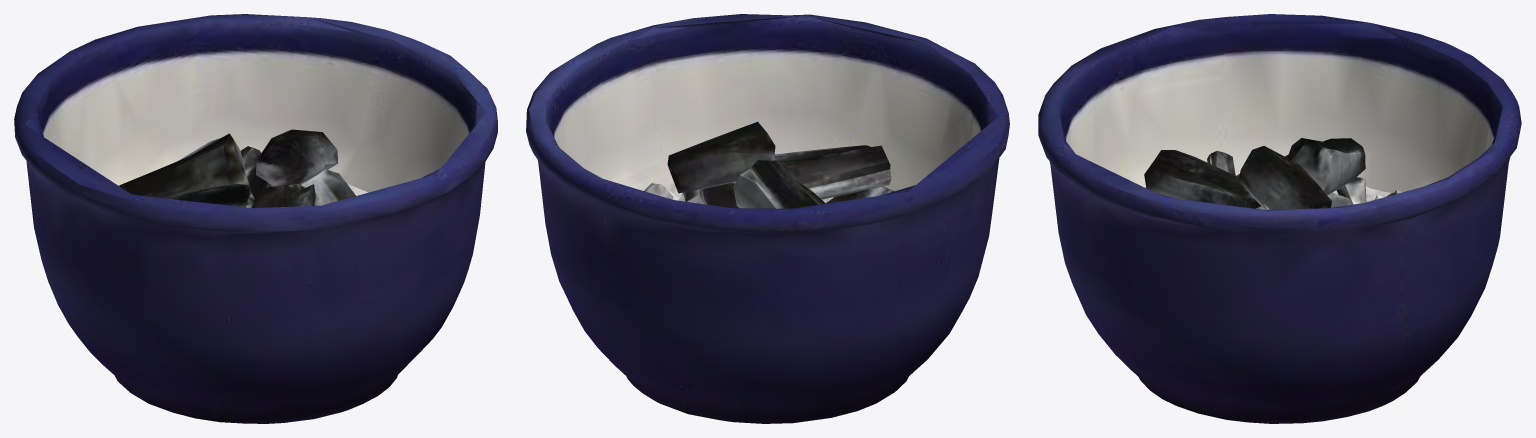
Rendered from hibachi.glb.
3 views of the same model, side by side, from view 1: azimuth 30°, elevation 25°; view 2: azimuth 150°, elevation 25°; view 3: azimuth 270°, elevation 25° (orthographic).
Visible parts, largest first — view 1: hibachi; view 2: hibachi; view 3: hibachi.
Part boxes in pixels (x1,y1,x2,y2): hibachi: (14, 14, 497, 423); hibachi: (526, 14, 1009, 423); hibachi: (1038, 14, 1521, 423).
Size of the model in its own units: 0.6275 by 0.3599 by 0.6275.
Materials: 1 (1 with a texture image).
